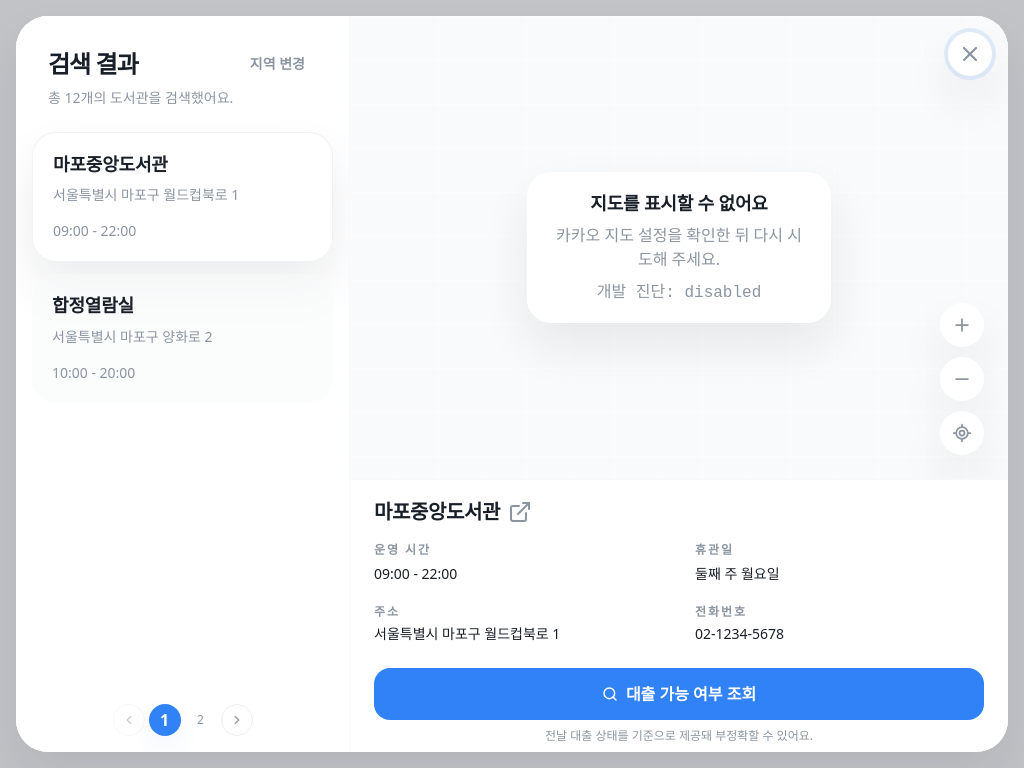
LibrarySearchResultDialog › 목록에서 도서관을 바꾸면 선택한 도서관 정보도 함께 바뀐다
This screenshot has width=1024, height=768.
Click the button "합정열람실 서울특별시 마포구 양화로 2 10:00 - 20:00": (182, 338) [32,274,333,403]
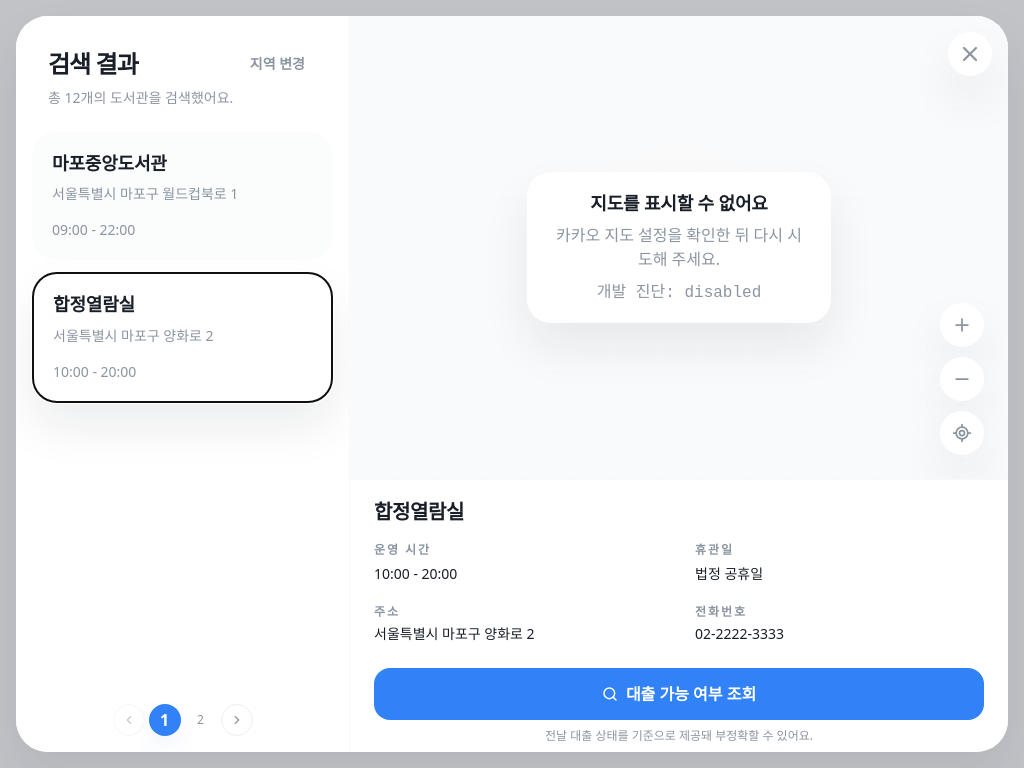
Expected: the heading "합정열람실" below "개발 진단:" is shown, [374,500,464,524]
Expected: the text "10:00 - 20:00" below "운영 시간" is shown, [374,564,457,583]
Expected: the text "법정 공휴일" is shown, [695,564,763,583]
